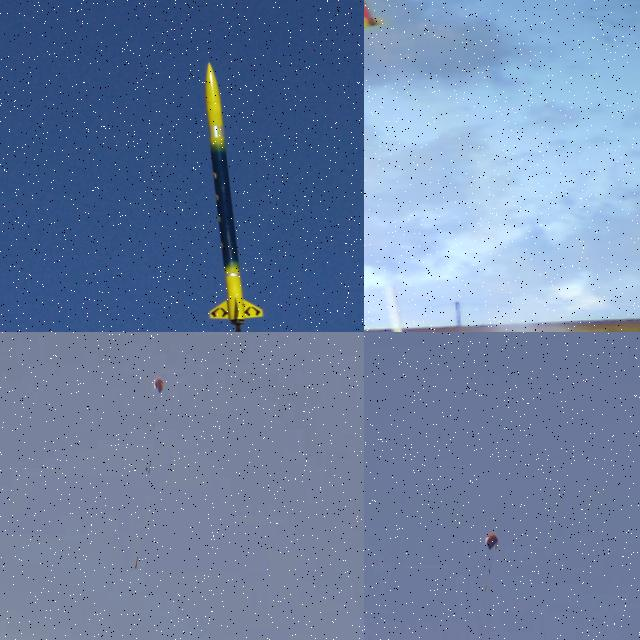Rocket: (203, 61, 268, 326), (364, 0, 386, 28), (135, 557, 138, 569)
